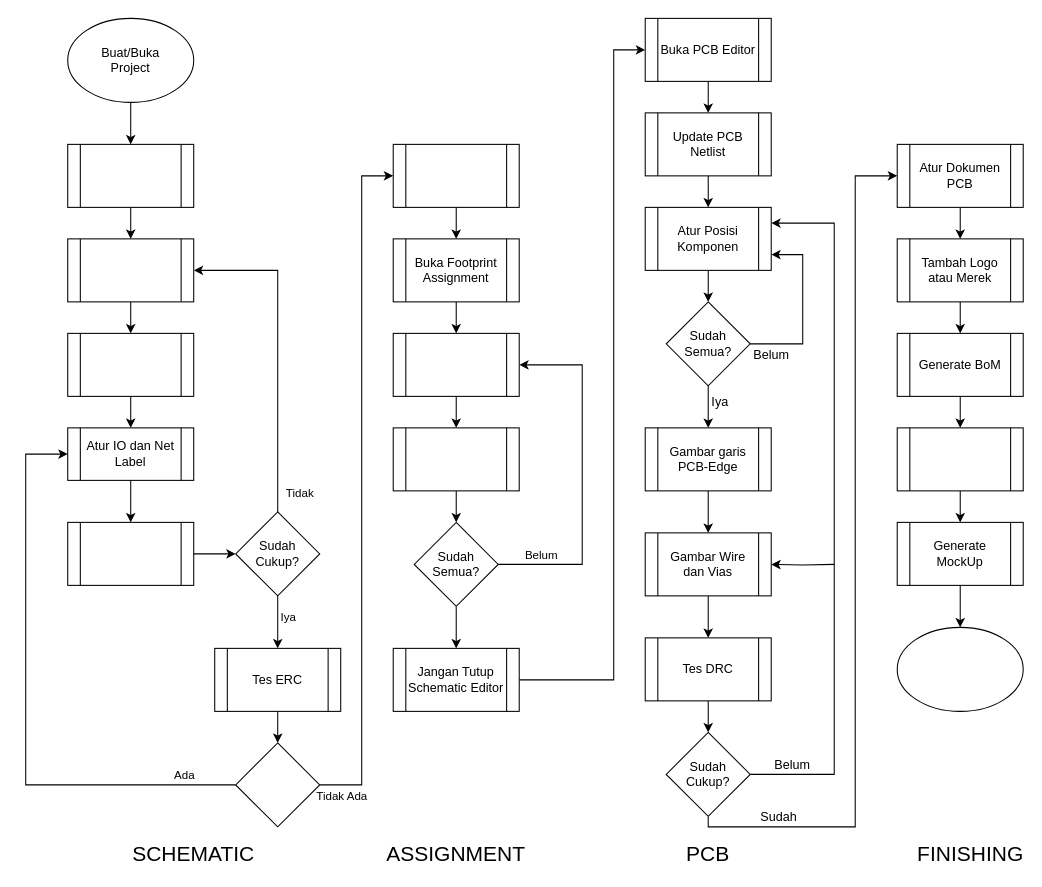
Image size: 1042x887. Some labels were removed from this diagram. Each missing label, with the centre of its shape:
"Assign Footprint ke Symbol" goes at point (455, 459).
"Atur Anotasi Komponen" goes at point (130, 553).
"Atur Dokumen Skematik" goes at point (455, 175).
"Atur Nilai dan Posisi Komponen" goes at point (130, 364).
"Buka Schematic Editor" goes at point (130, 175).
"Generate Gerber atau PDF" goes at point (959, 459).
"Ordering to Manufacturer" goes at point (959, 668).
"Pilih Pustaka Footprint" goes at point (455, 364).
"Tambah Komponen" goes at point (130, 270).
"Tidak ada violation?" goes at point (277, 784).
